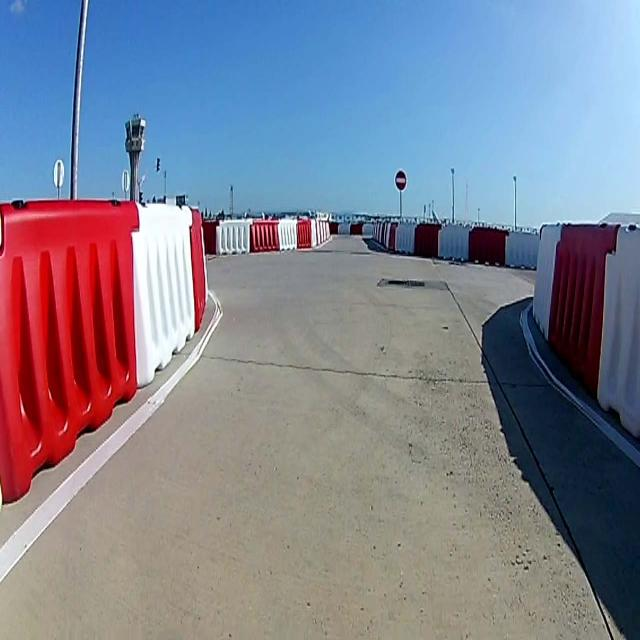girisyok: (396, 171, 406, 189)
